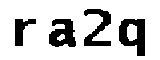2: (80, 6, 116, 51)
a: (47, 16, 78, 48)
q: (114, 15, 146, 60)
r: (10, 14, 39, 50)
